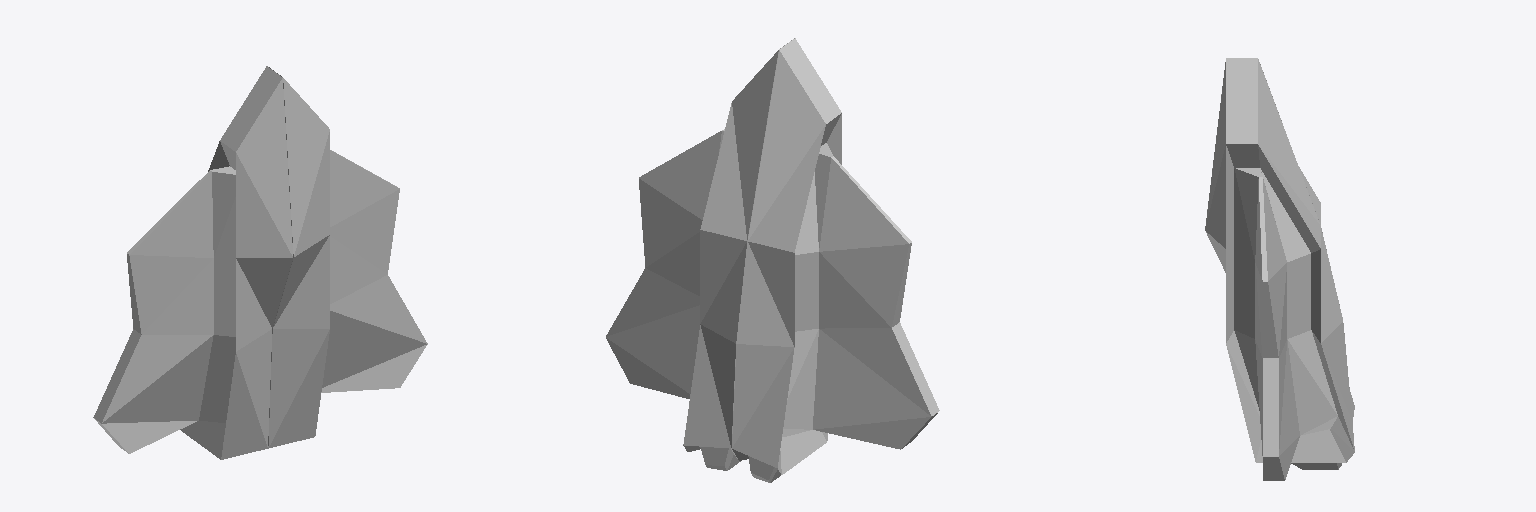
The model's file is ship.obj.
3 renders of one model, left to right at view 1: azimuth 30°, elevation 25°; view 2: azimuth 150°, elevation 25°; view 3: azimuth 270°, elevation 25°, orthographic.
Size of the model in its own units: 0.4998 by 0.5803 by 0.199.